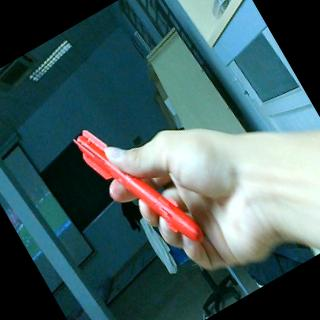Rocket: (68, 101, 205, 270)
